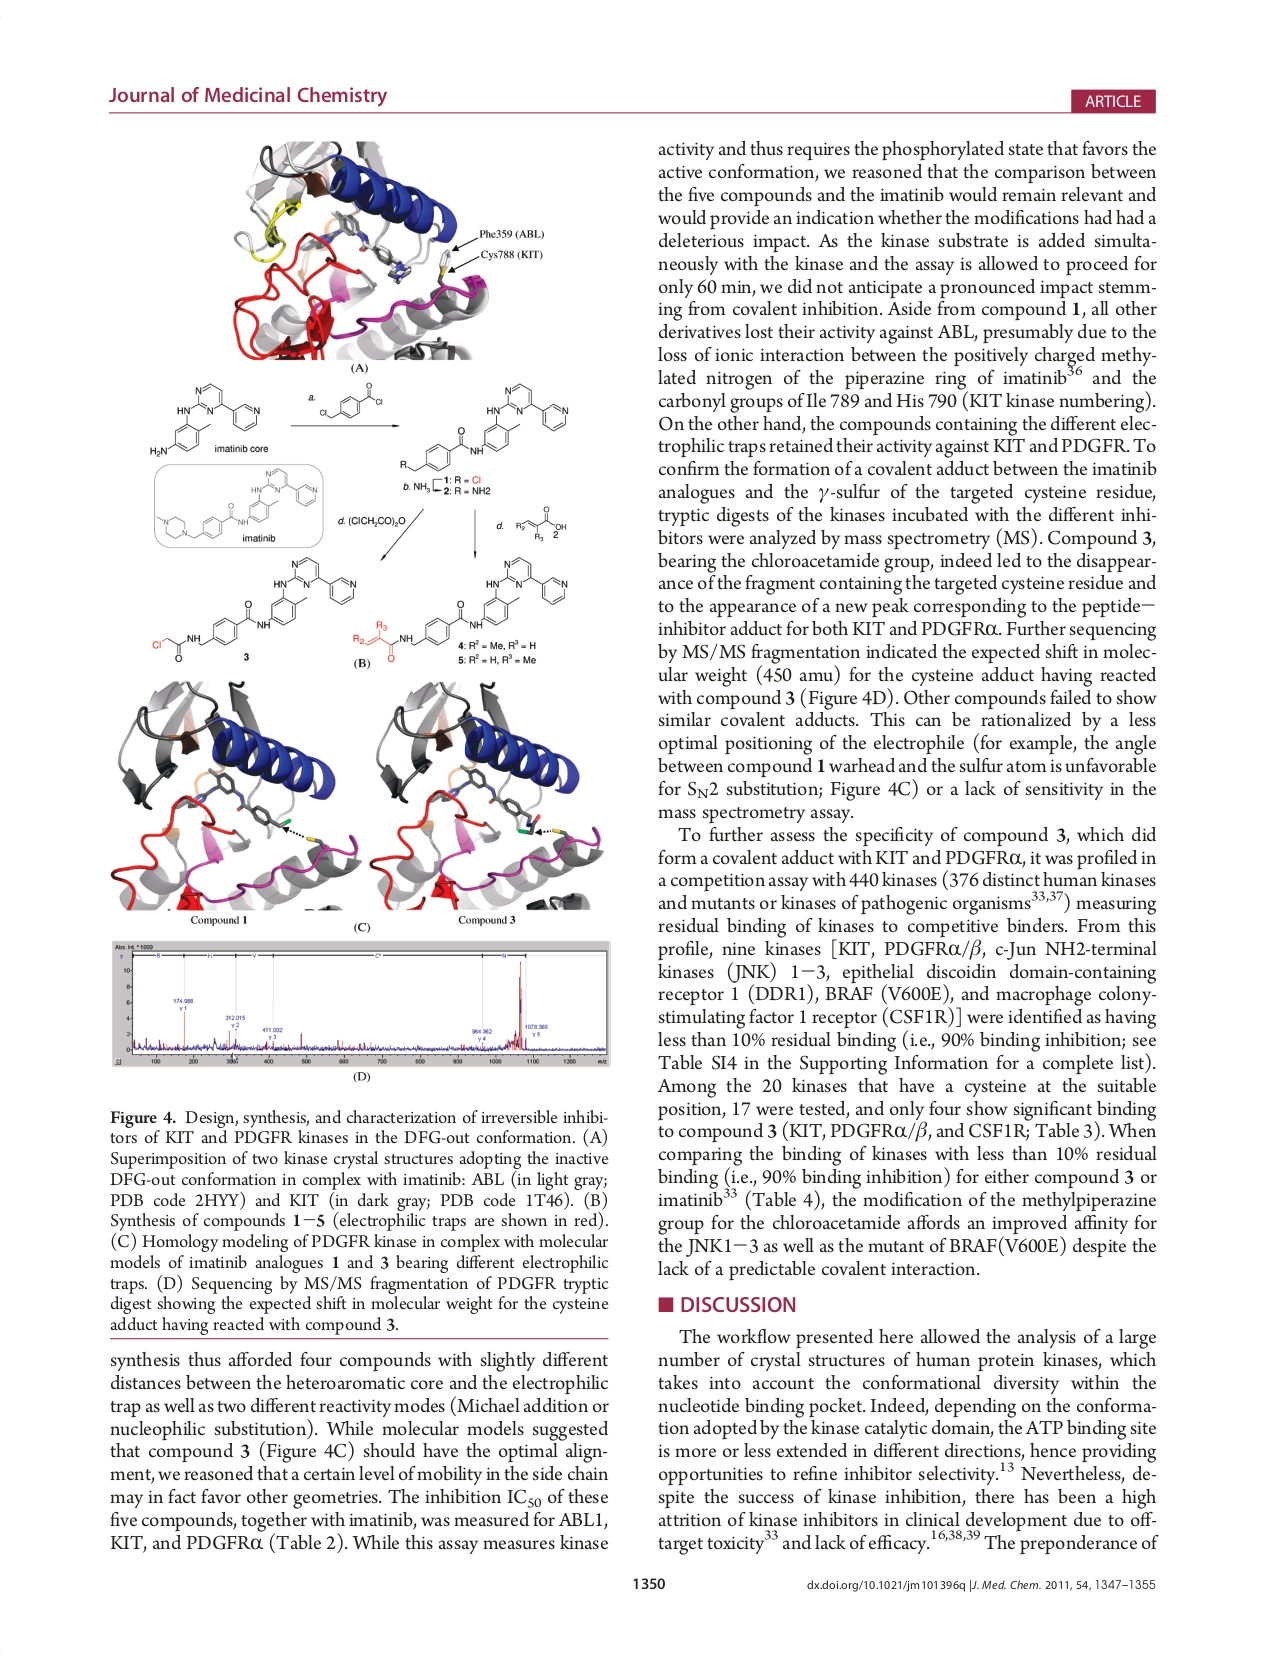exist_molecular: (350, 555, 570, 664), (148, 555, 358, 662), (398, 382, 570, 473), (146, 380, 267, 457), (316, 380, 383, 422), (515, 503, 569, 547)
